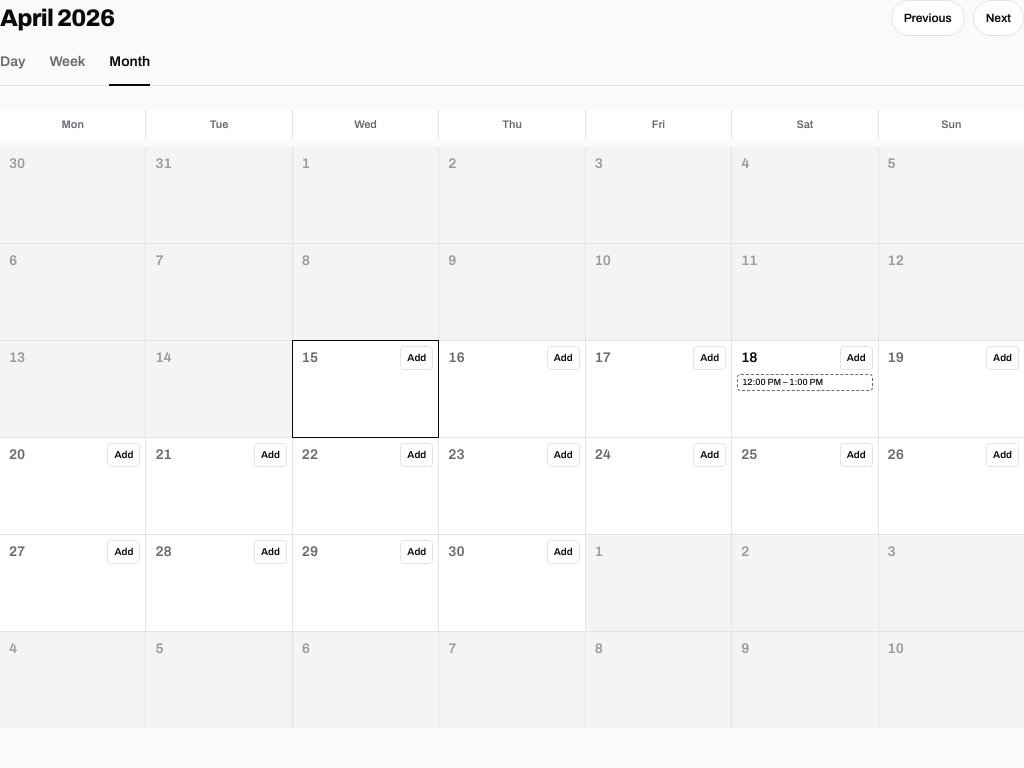
Test: TeacherAvailabilityCalendar › clicking an existing slot opens the edit modal prefilled with that slot
Click the button "12:00 PM – 1:00 PM". click: [805, 382]
box: [737, 374, 872, 391]
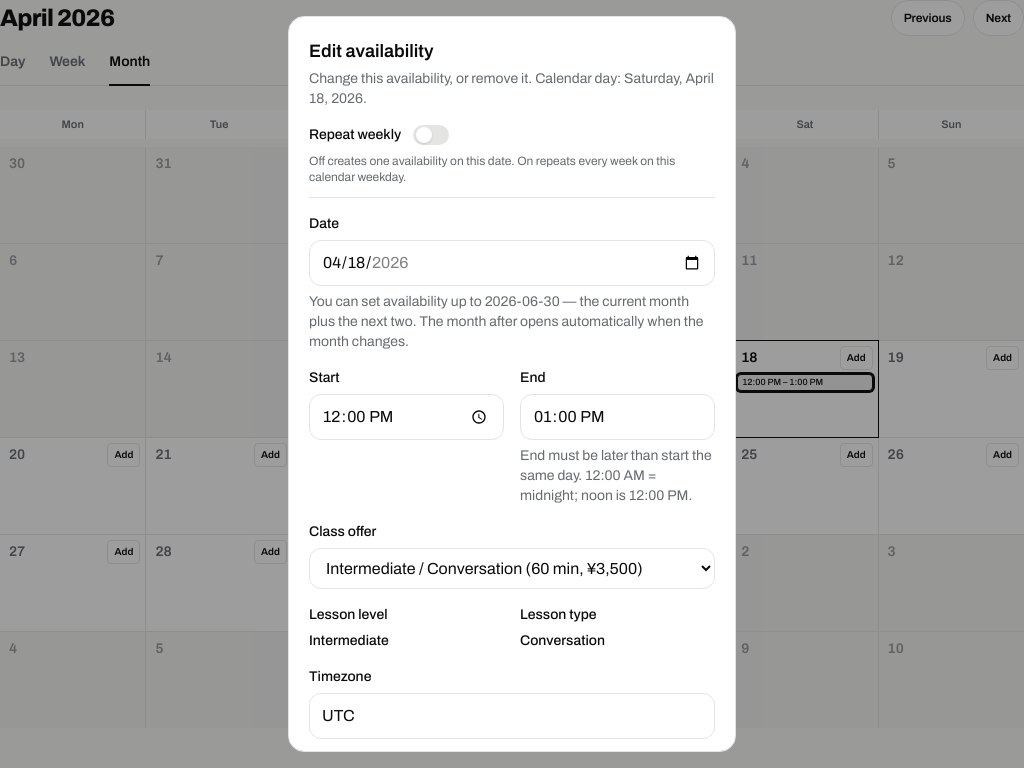
Expected: the date field showing "2026-04-18" is shown, [309, 240, 715, 286]
Expected: the time field showing "12:00" is shown, [309, 394, 504, 440]
Expected: the time field showing "13:00" is shown, [520, 394, 715, 440]
